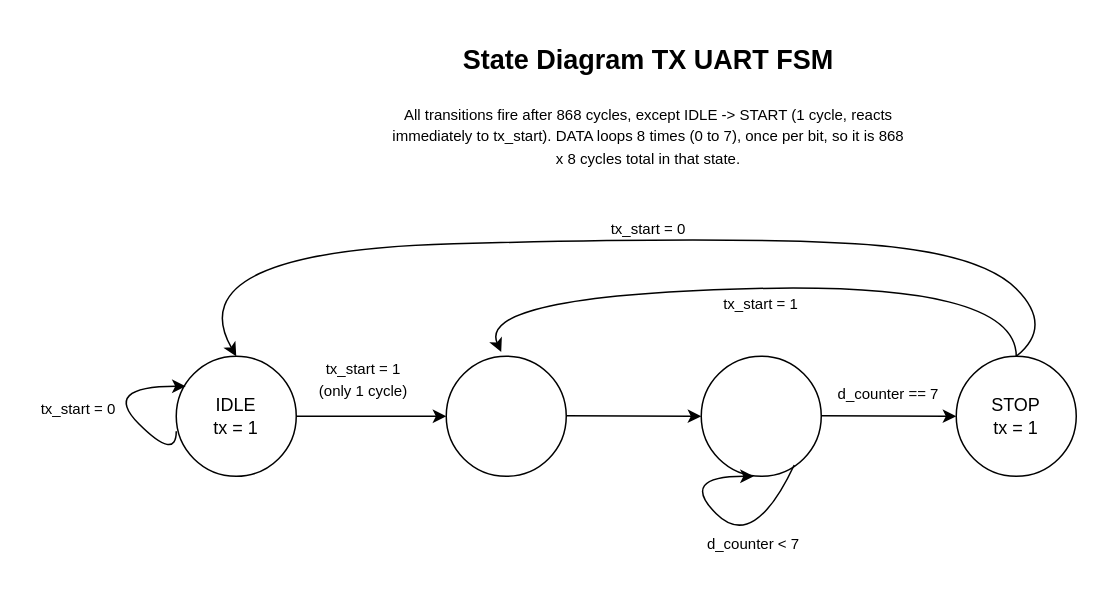
This 1103x591 diagram has some shape labels left out. The shapes that lost their labels are listed below. From the top down, each one's box as (x1, y1, x2, y2) in pixels, then its label:
(445, 355, 566, 476): START tx = 0
(700, 355, 821, 476): DATA tx = tx_byte_ff [d_counter]
